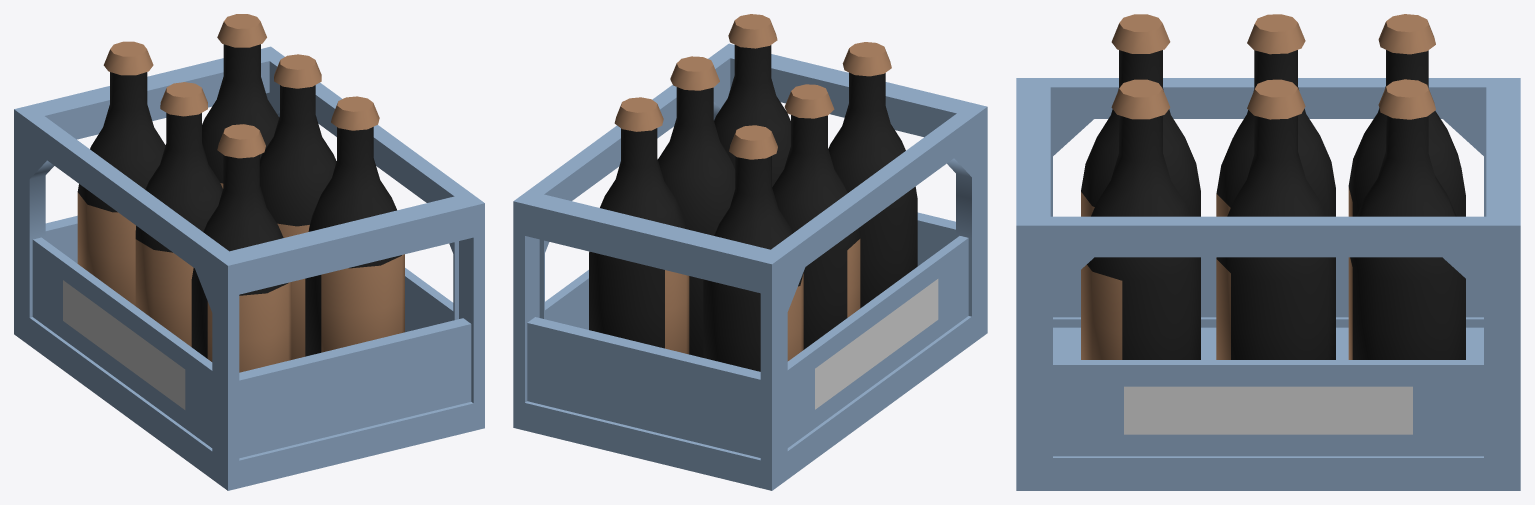
File: Environment_Bottles.fbx
The picture shows the model from 3 angles, left to right: view 1: azimuth 30°, elevation 25°; view 2: azimuth 150°, elevation 25°; view 3: azimuth 270°, elevation 25°; orthographic projection. The views are drawn at different scales.
Parts seen in each view (by area): view 1: Environment_Bottles; view 2: Environment_Bottles; view 3: Environment_Bottles.
Boxes of the visible parts, x1,y1,x2,y2 form: Environment_Bottles: (14, 14, 484, 490); Environment_Bottles: (513, 14, 987, 490); Environment_Bottles: (1016, 14, 1520, 490).
Size of the model in its own units: 90.32 by 102 by 130.
